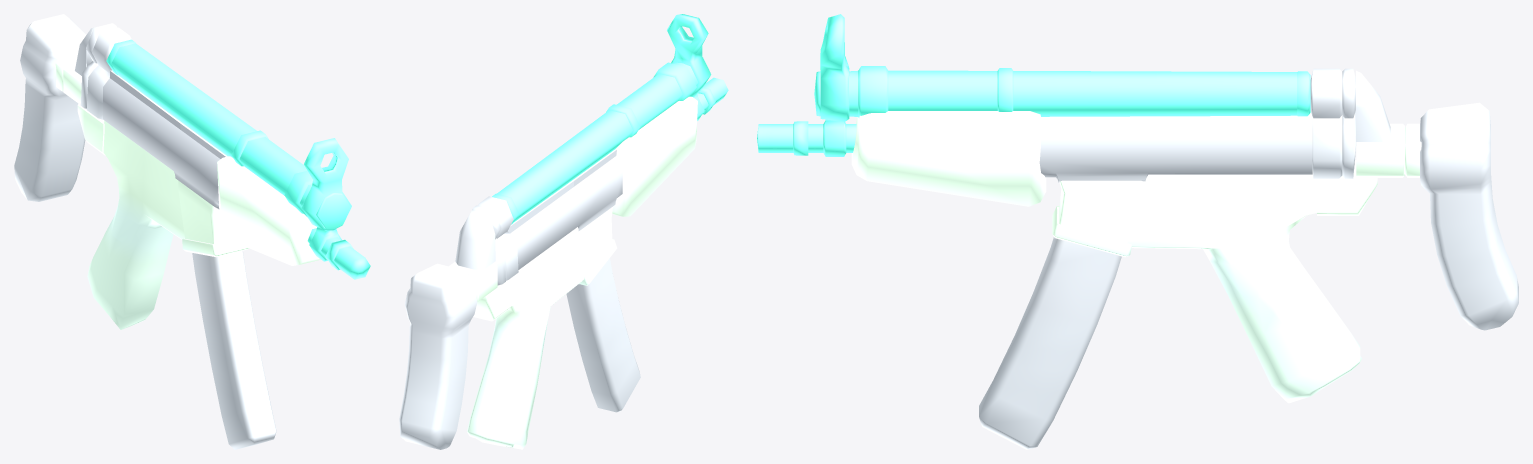
File: Weapon_2.fbx
3 renders of one model, left to right at view 1: azimuth 30°, elevation 25°; view 2: azimuth 150°, elevation 25°; view 3: azimuth 270°, elevation 25°, orthographic. The views are drawn at different scales.
Visible parts, largest first — view 1: DesertEagleMesh_1; view 2: DesertEagleMesh_1; view 3: DesertEagleMesh_1.
Part boxes in pixels (box(x1,y1,x2,y2)): DesertEagleMesh_1: box(14, 14, 370, 449); DesertEagleMesh_1: box(399, 14, 728, 449); DesertEagleMesh_1: box(757, 14, 1518, 449).
Bounding box in the file's own units: 31.41 × 194 × 315.
